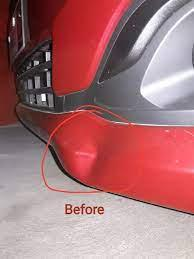front-bumper-dent: (3, 87, 193, 214)
